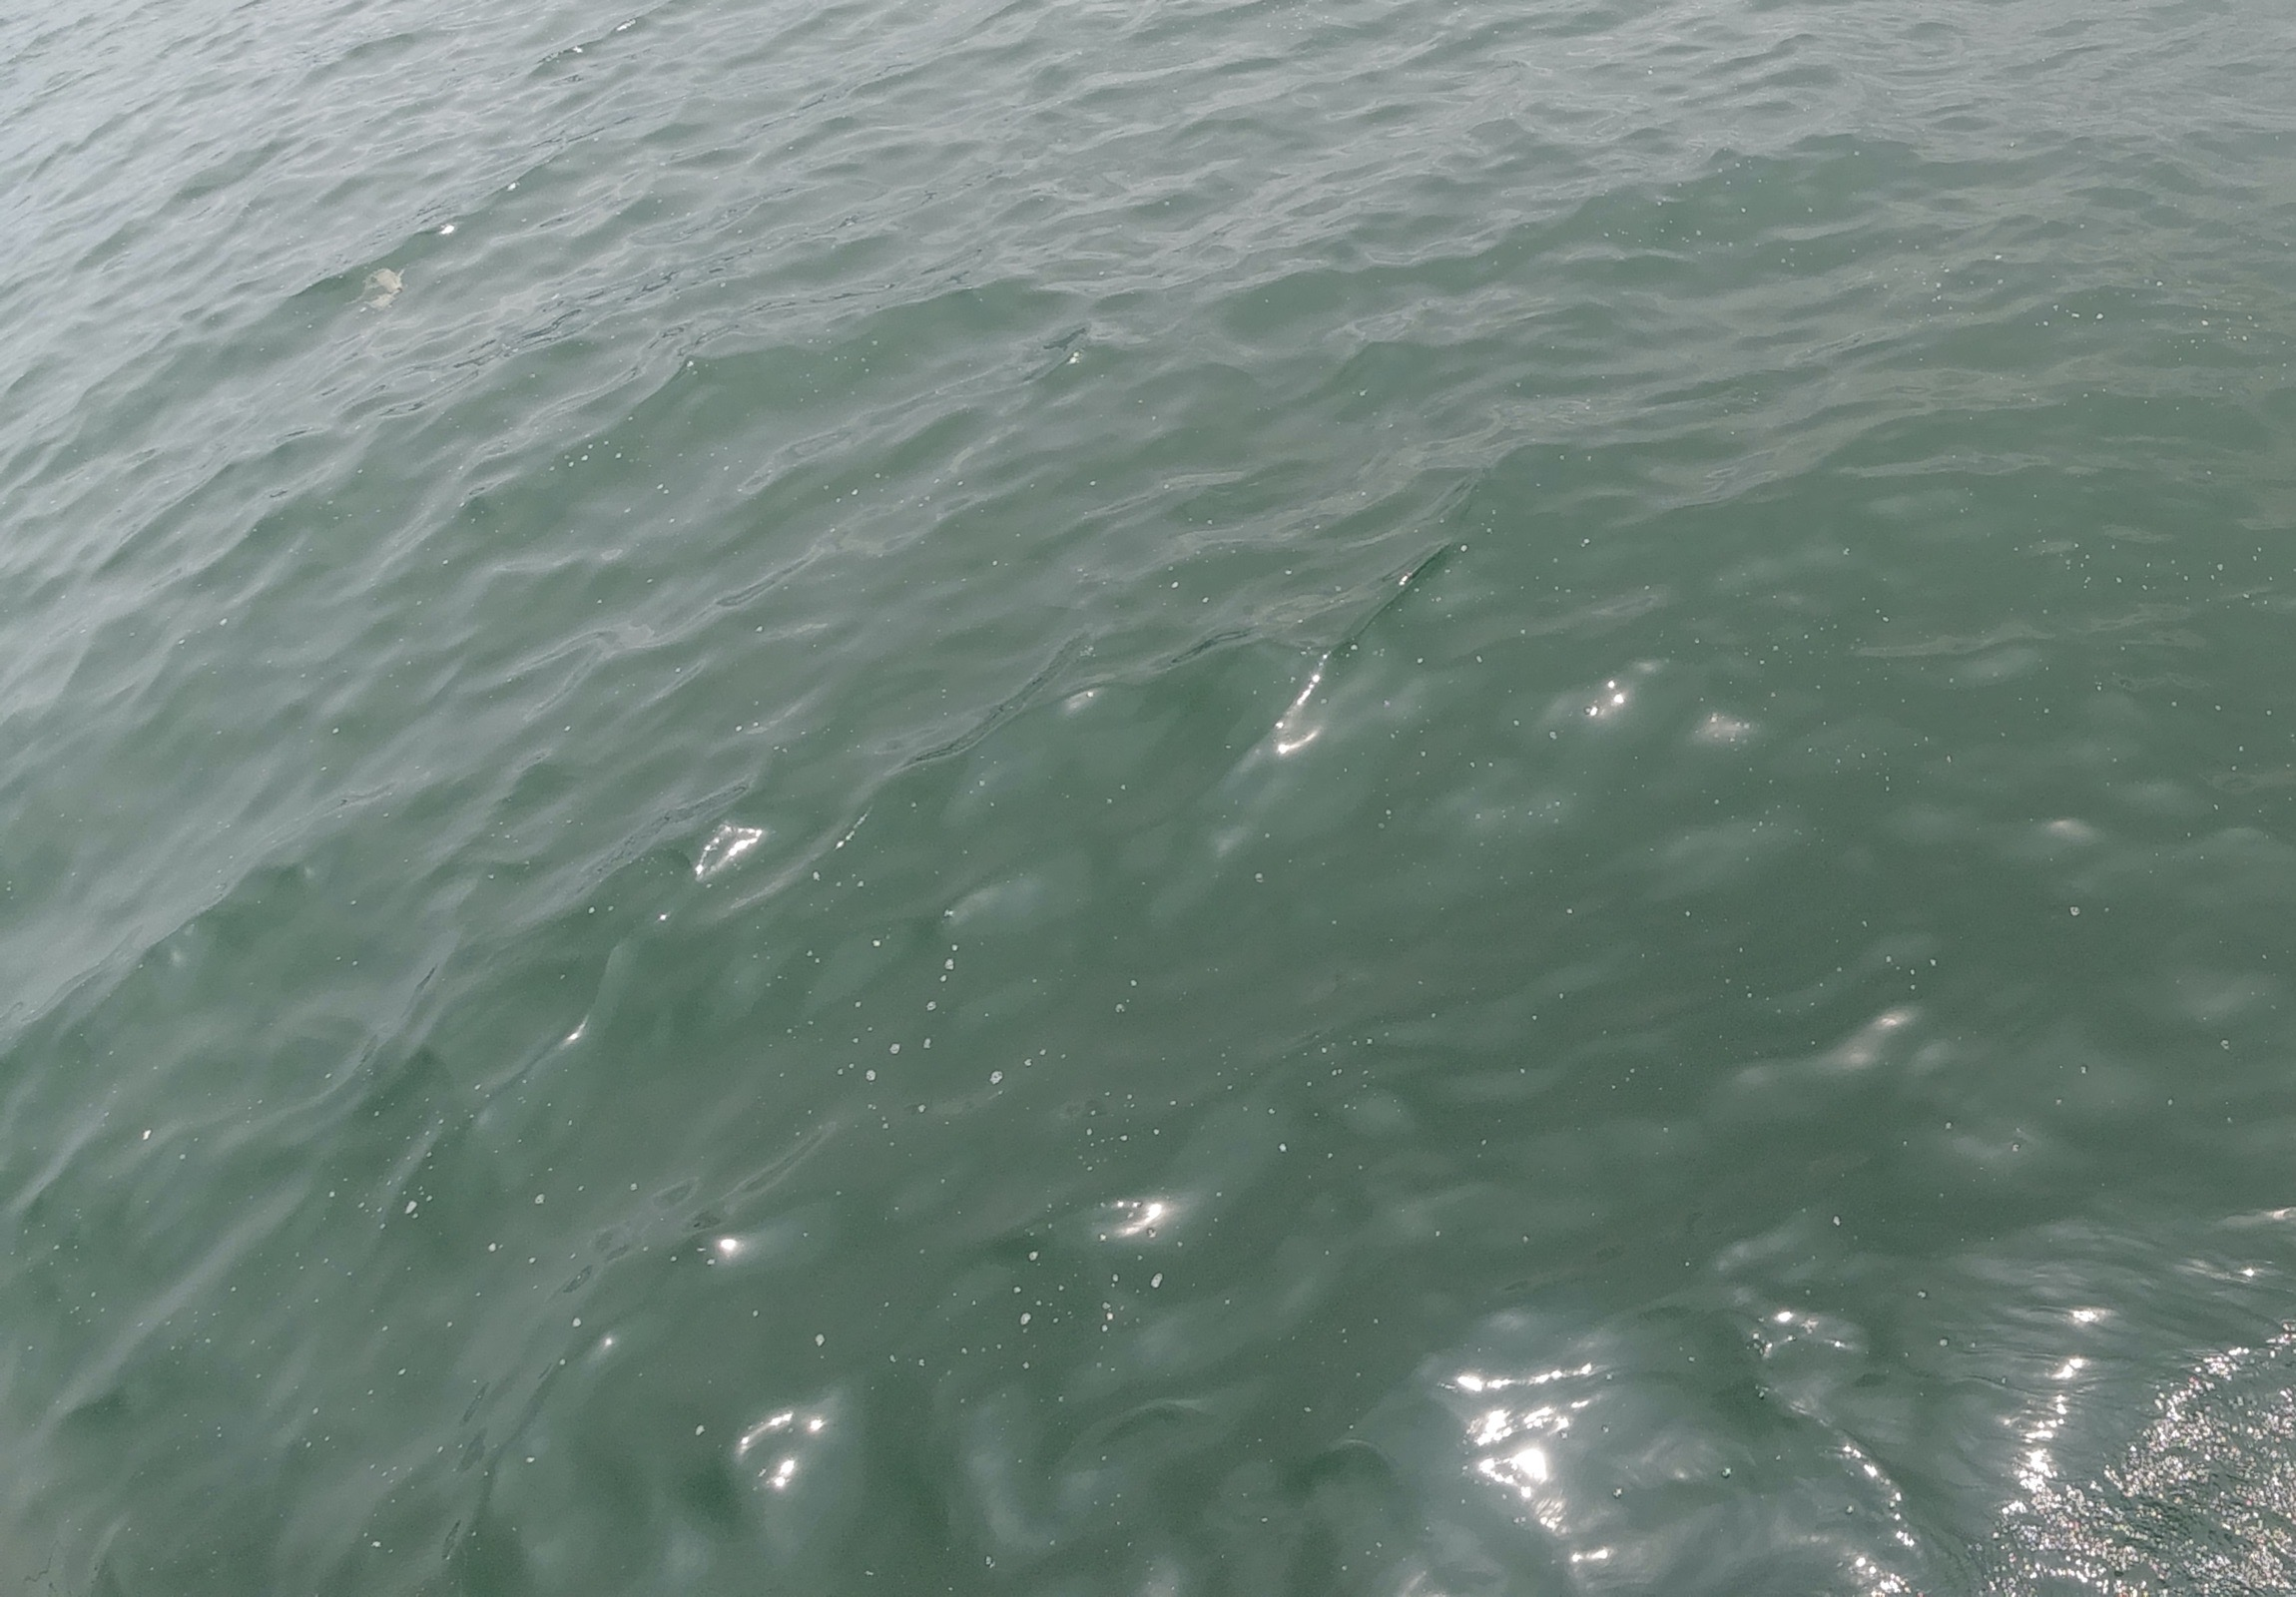plastic: (335, 253, 413, 325)
